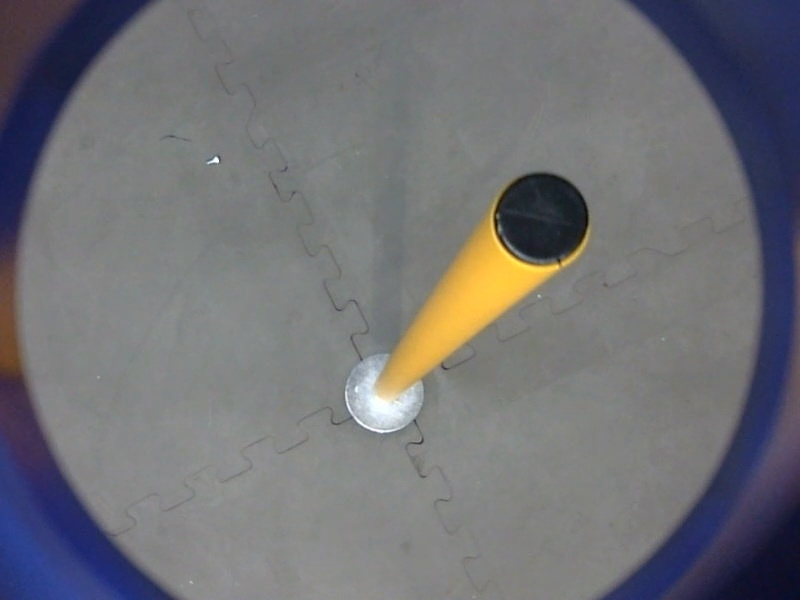tip: (485, 165, 597, 277)
